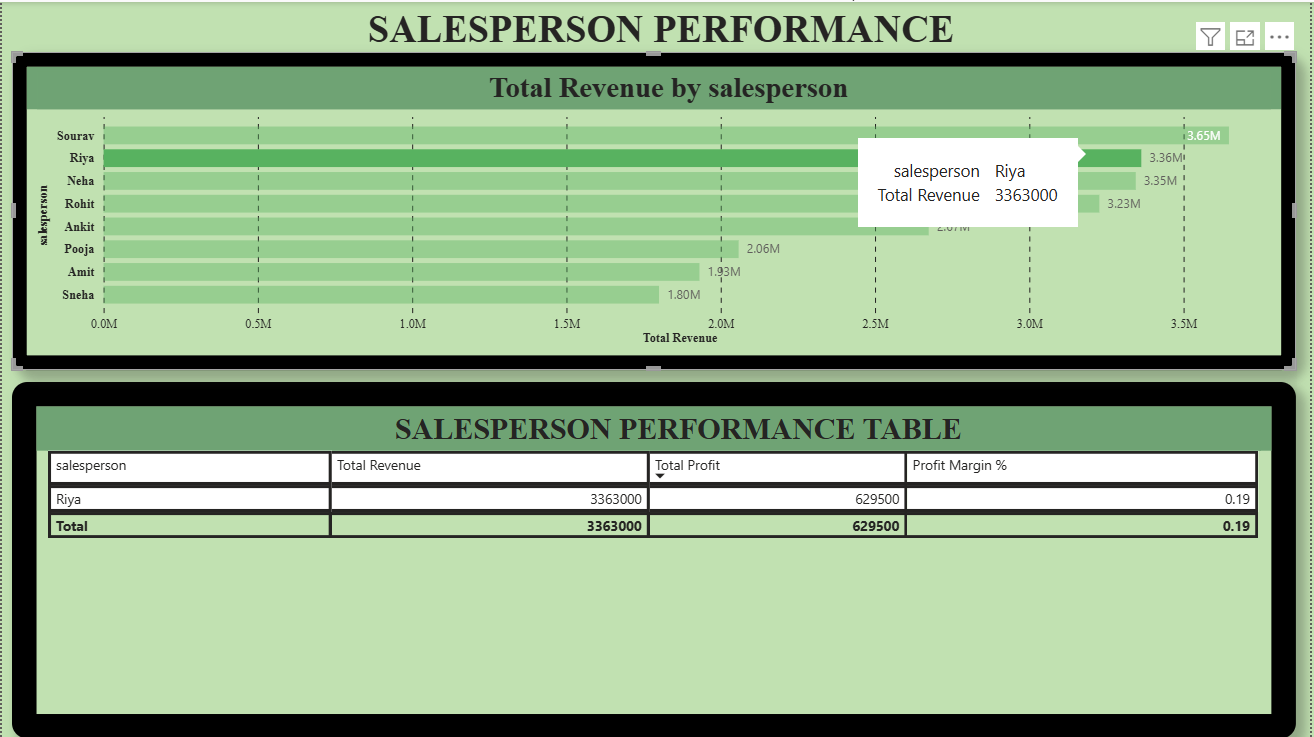

The page's visual inventory and layout, read from the dashboard file:
{"tool":"powerbi","page":{"name":"Salesperson Performance","canvas":[1280,720],"ordinal":3},"visuals":[{"type":"textbox","box":[10,0,1270,64.3],"z":0},{"type":"clusteredBarChart","fields":{"Category":["Sales_Data_FIXED.salesperson"],"Y":["Sales_Data_FIXED.Total Revenue"]},"box":[10,48.6,1255.7,311.4],"z":1000},{"type":"tableEx","title":"SALESPERSON PERFORMANCE TABLE","fields":{"Values":["Sales_Data_FIXED.salesperson","Sales_Data_FIXED.Total Revenue","Sales_Data_FIXED.Total Profit","Sales_Data_FIXED.Profit Margin %"]},"box":[10,371.4,1255.7,348.6],"z":2000}]}

Visuals, with their boxes in screenshot pixels (x1, y1, x2, y2), scaled from the page's 1280x720 canvas onto the 1314x737 screenshot:
textbox: [x1=10, y1=0, x2=1313, y2=66]
clusteredBarChart - Sales_Data_FIXED.salesperson x Sales_Data_FIXED.Total Revenue: [x1=10, y1=50, x2=1299, y2=368]
"SALESPERSON PERFORMANCE TABLE" tableEx: [x1=10, y1=380, x2=1299, y2=736]
